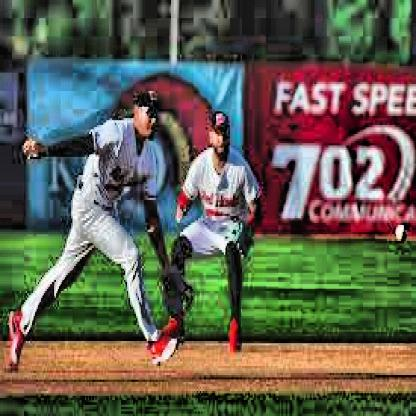baseball: (394, 223, 408, 243)
